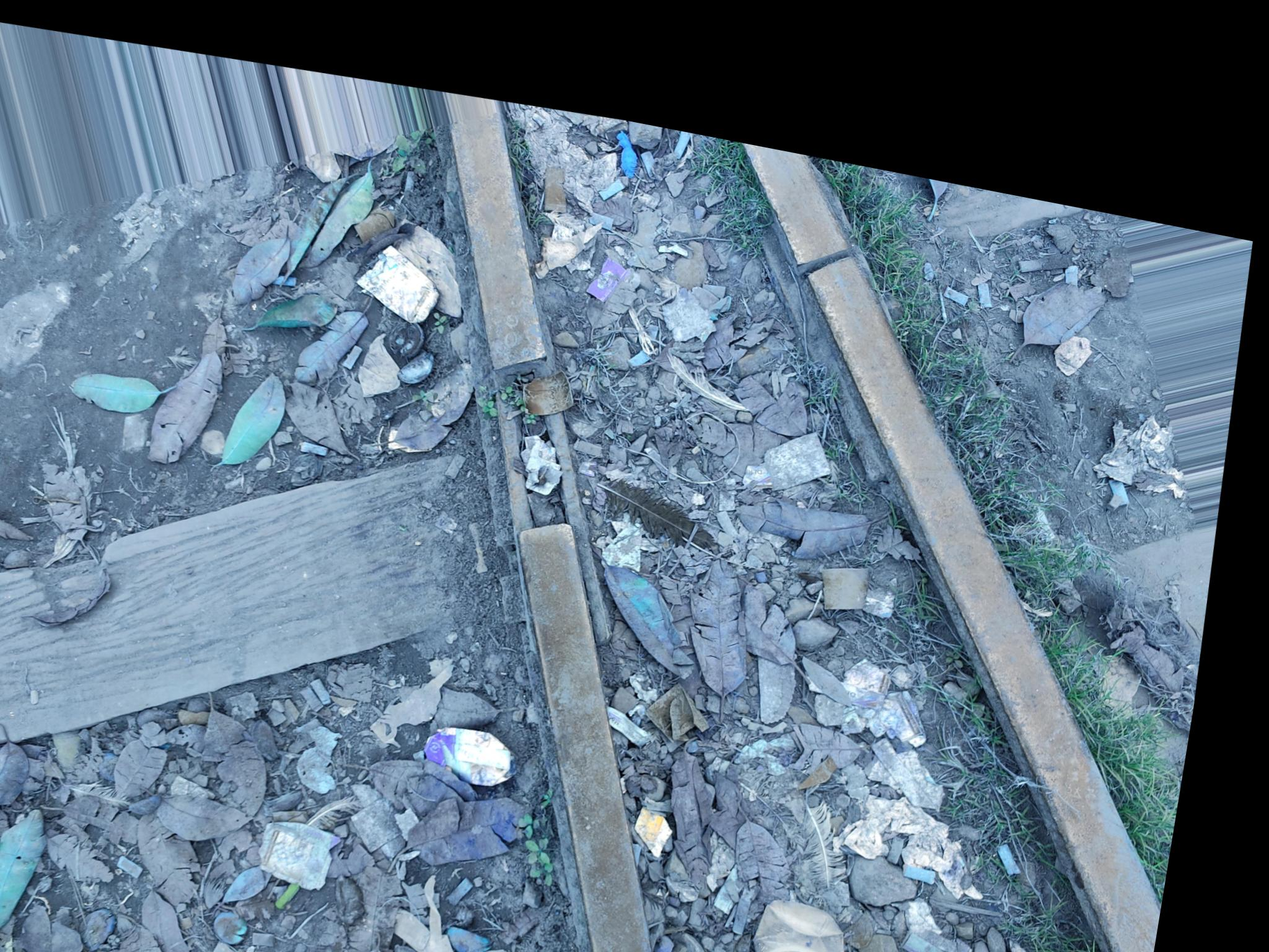person: (438, 274, 668, 585), (769, 161, 896, 294)
